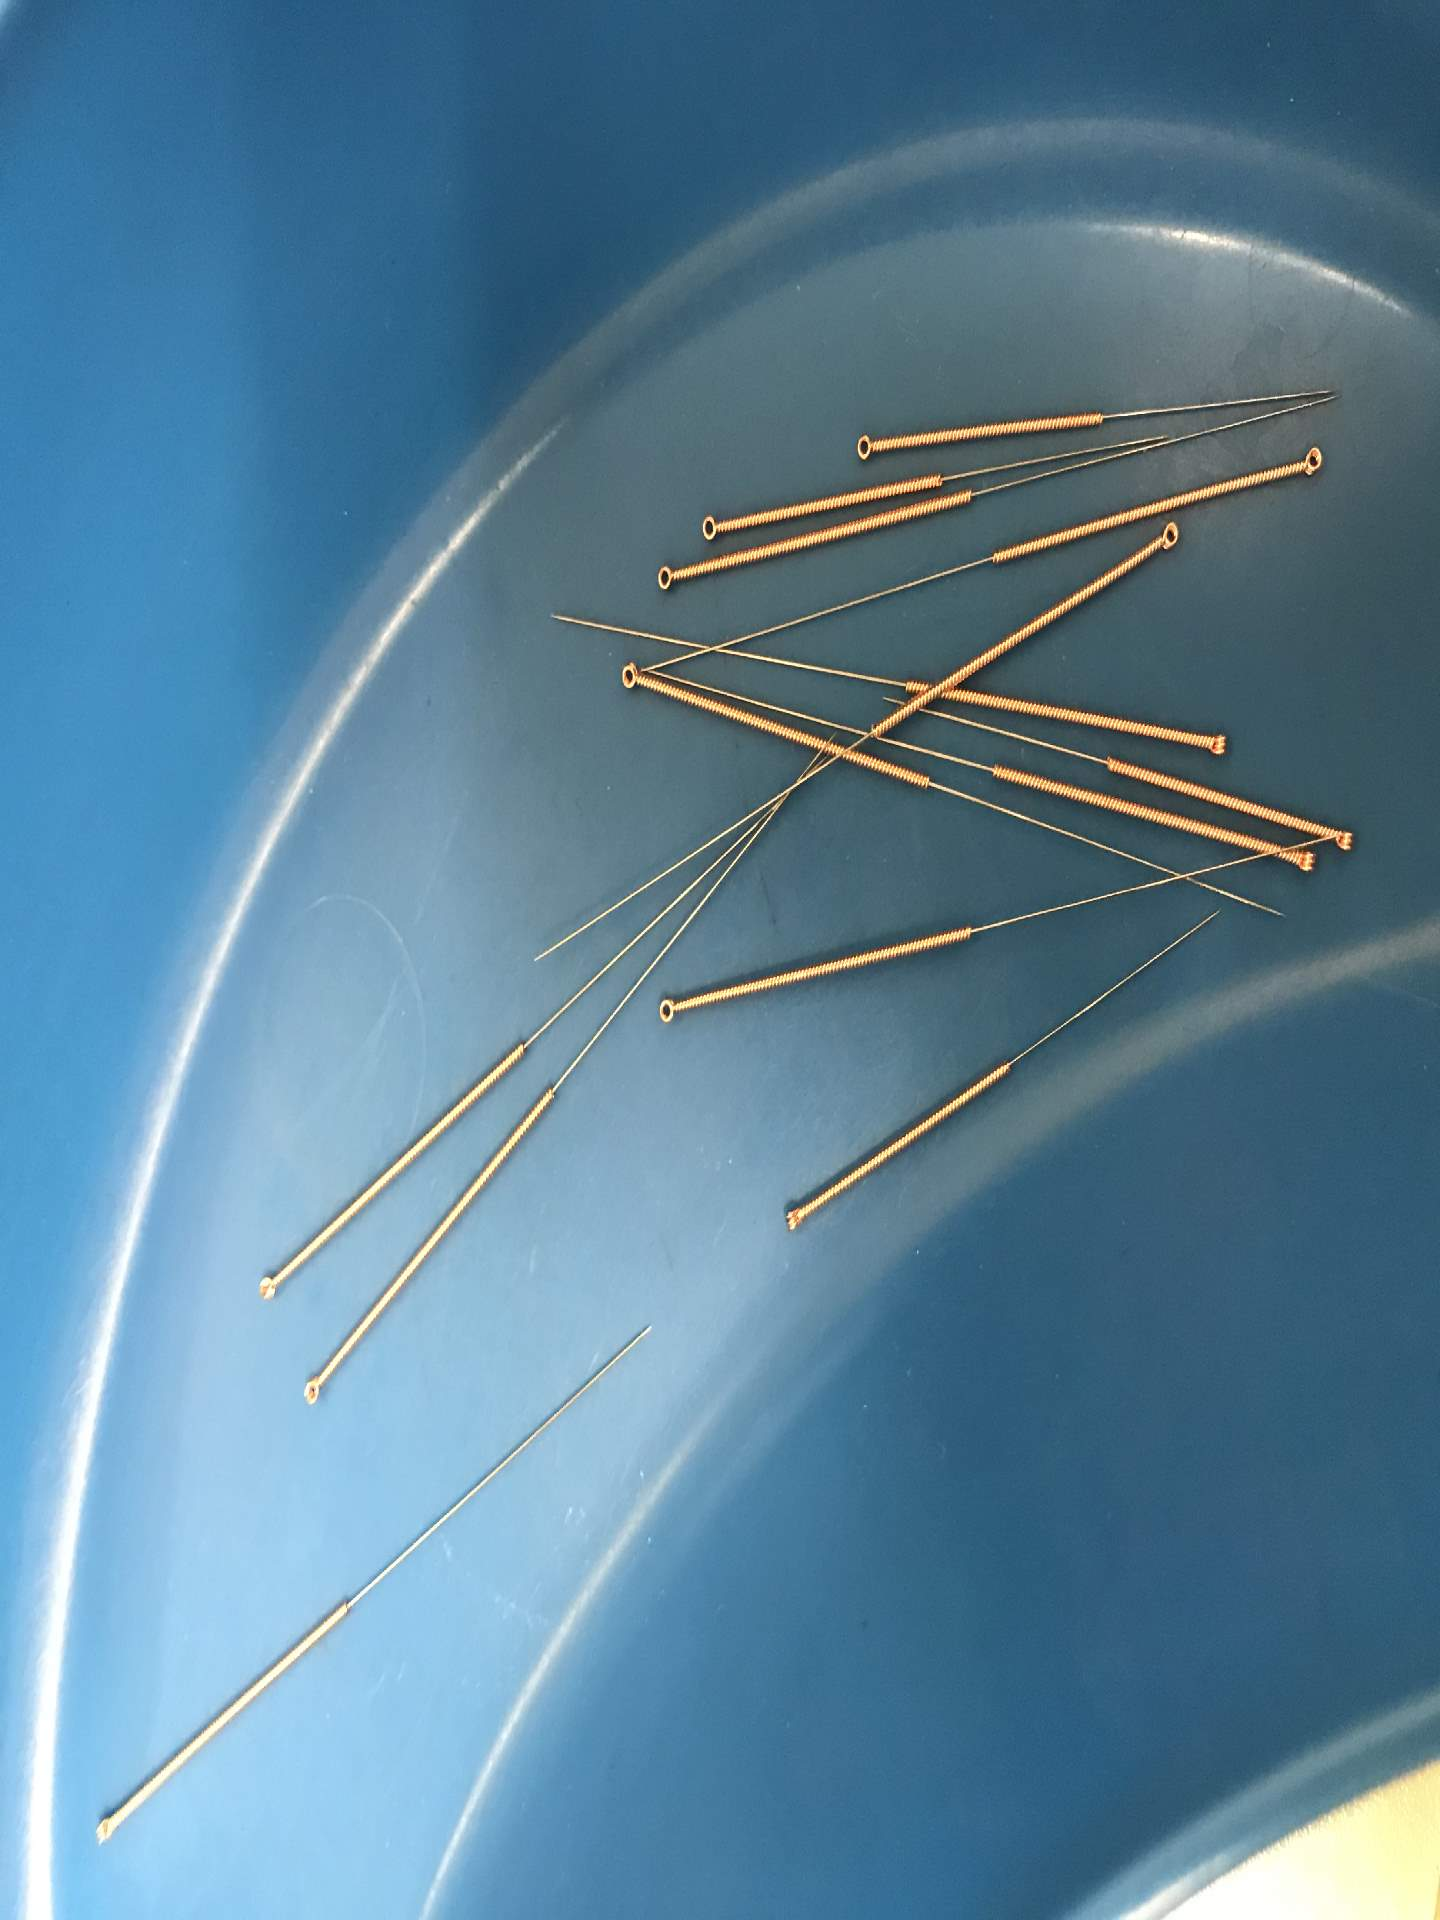needle: (85, 1804, 123, 1853), (1293, 437, 1330, 482), (293, 1368, 330, 1412), (253, 1262, 287, 1308), (777, 1196, 811, 1240), (1196, 724, 1233, 763), (1286, 842, 1322, 881), (693, 505, 728, 546), (1151, 517, 1186, 558), (1324, 818, 1358, 859), (614, 658, 649, 698), (647, 556, 682, 596), (850, 425, 883, 466), (652, 986, 685, 1027)
